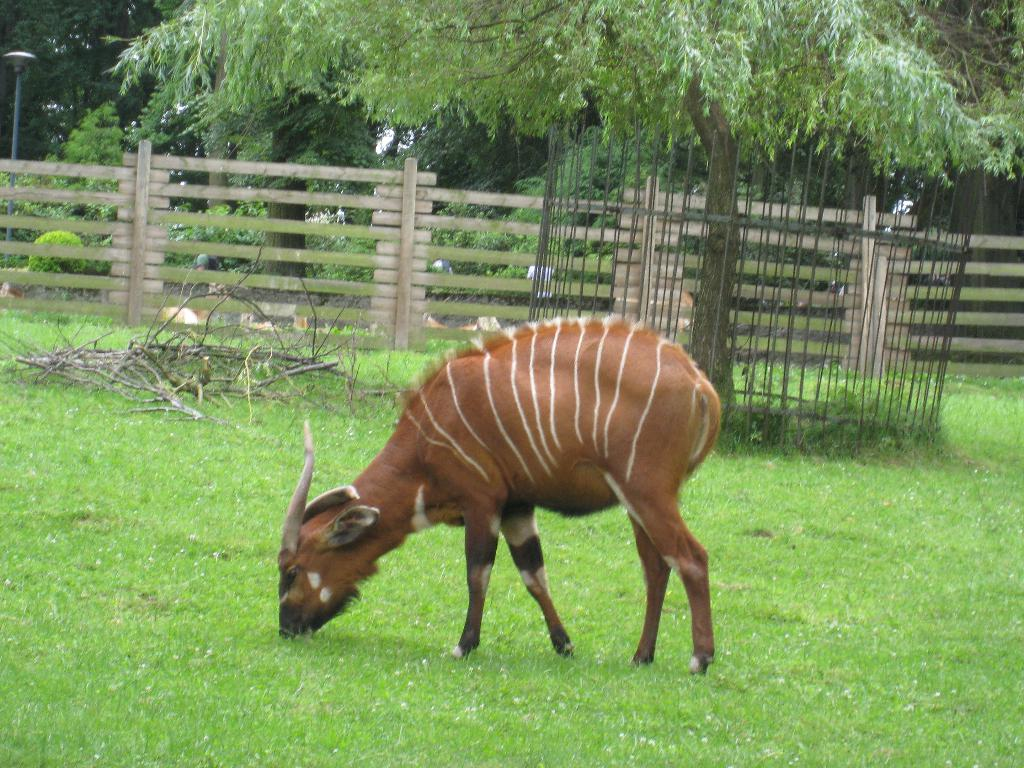Tree: (0, 0, 1024, 407)
